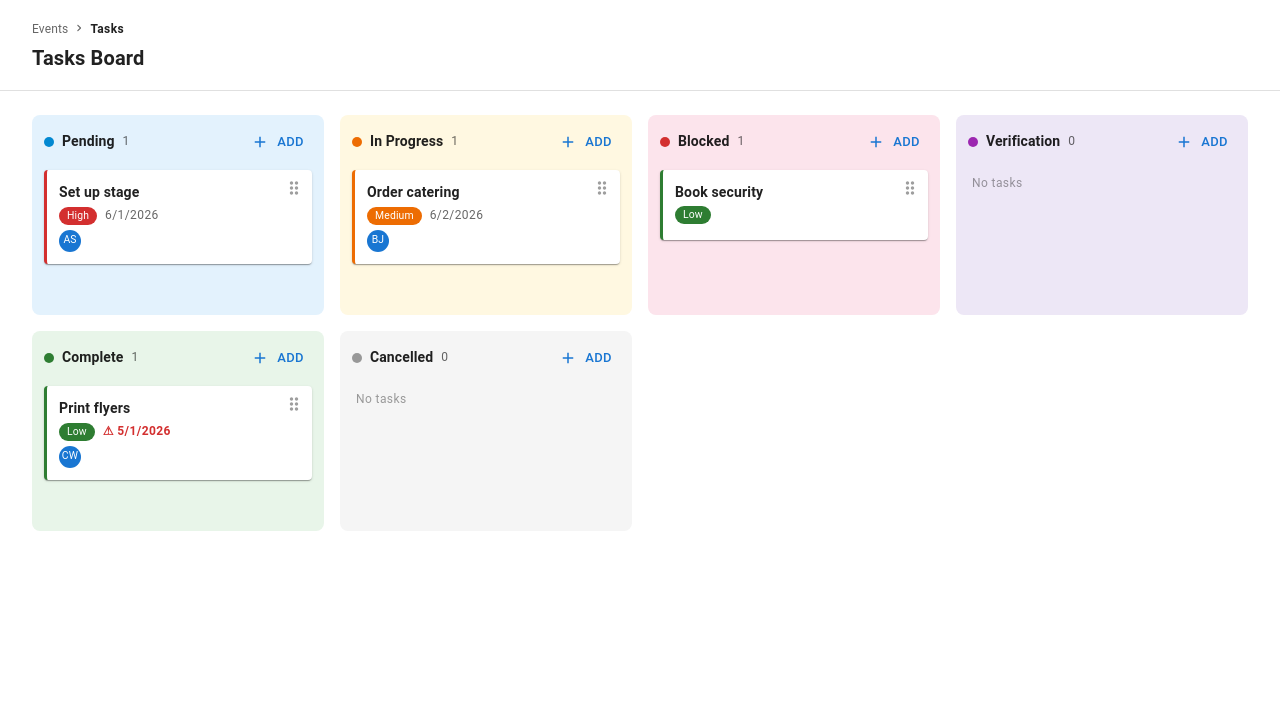
it: TasksKanbanPage › opens the add task dialog when clicking Add in a column
What coordinates should you click on to do the following:
click the button "Add" in the row of "Pending"
I would click on:
 (279, 142)
Its box is [245,127,312,158].
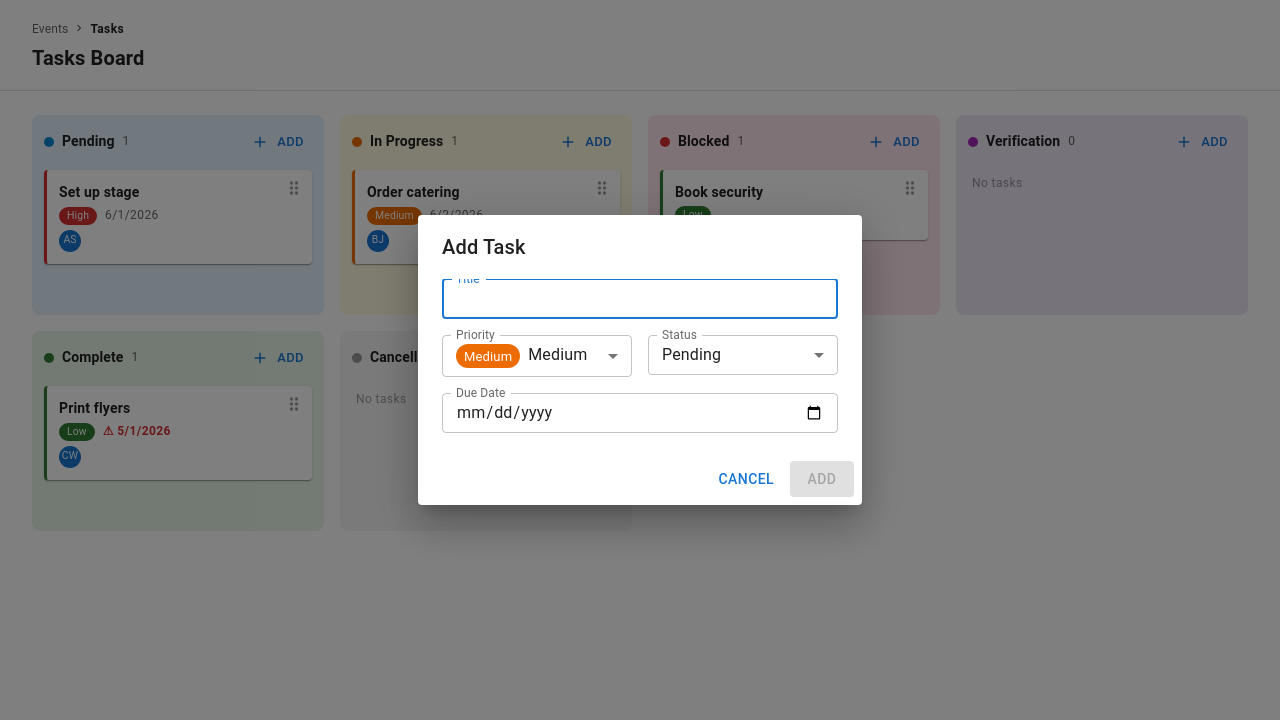
Expected: the dialog is shown, [418,215,862,505]
Expected: the heading "Add Task" is shown, [442,235,526,259]
